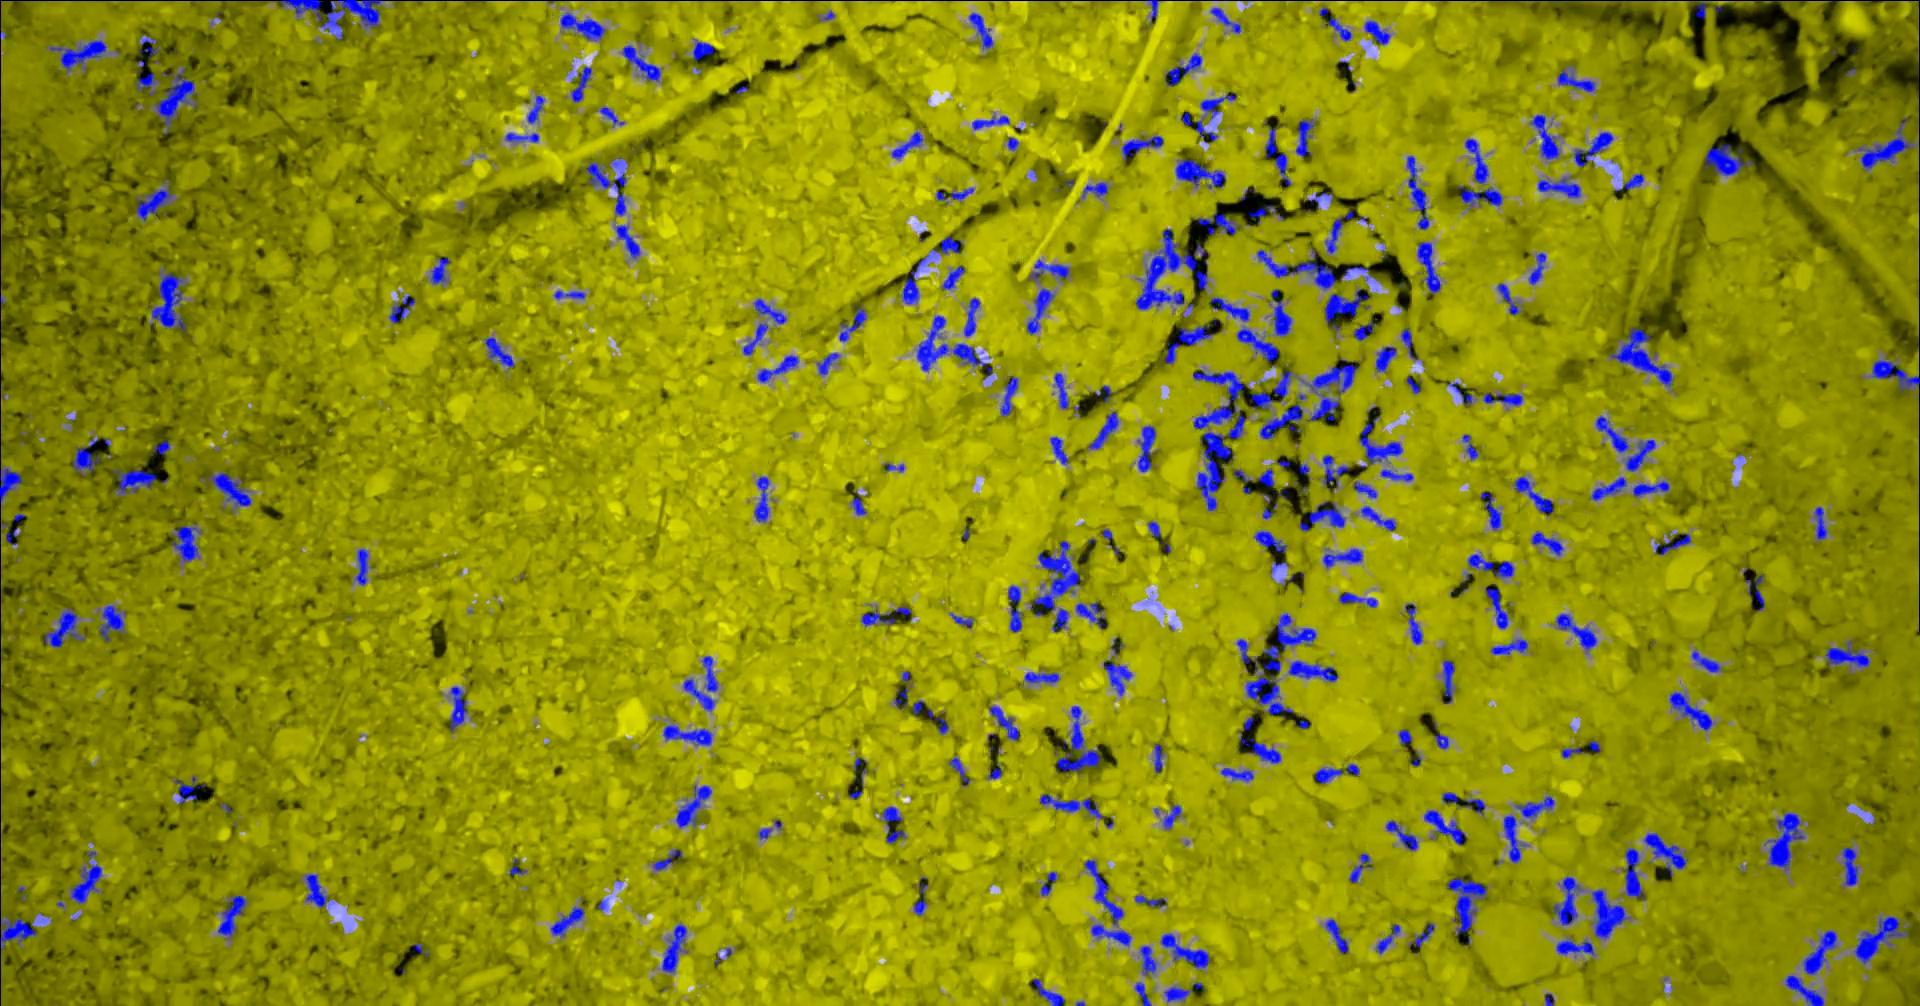ant: (1258, 248, 1338, 290), (1057, 705, 1101, 772), (1858, 117, 1915, 169), (155, 67, 198, 135), (1855, 916, 1910, 964), (1084, 859, 1125, 923), (1361, 409, 1404, 464), (1449, 876, 1488, 935), (1766, 812, 1806, 869), (587, 161, 629, 215), (1261, 392, 1308, 439), (152, 269, 188, 330), (1166, 324, 1215, 363), (1307, 358, 1361, 394), (48, 39, 108, 71), (684, 655, 719, 710), (1644, 832, 1688, 875), (1326, 288, 1370, 330), (1592, 889, 1629, 937), (201, 473, 253, 506), (1670, 691, 1713, 730), (1162, 934, 1211, 968), (44, 607, 86, 647), (1238, 326, 1280, 365), (1408, 155, 1430, 229), (1557, 614, 1597, 652), (677, 784, 712, 827), (1425, 809, 1468, 845), (1041, 794, 1103, 818), (1516, 476, 1556, 514), (1705, 144, 1752, 175), (1873, 359, 1920, 391), (1266, 127, 1291, 185), (1804, 930, 1837, 974), (1, 913, 39, 951), (1177, 159, 1227, 188), (1575, 131, 1615, 166), (1554, 876, 1583, 925), (904, 254, 932, 304), (623, 44, 662, 80), (137, 185, 175, 221), (1302, 500, 1346, 531), (1531, 114, 1561, 159), (561, 11, 607, 39), (1029, 288, 1057, 334), (1241, 733, 1283, 763), (1326, 210, 1355, 253), (1418, 241, 1443, 293), (72, 862, 103, 903), (663, 923, 688, 972), (1597, 415, 1630, 452), (173, 521, 202, 561), (218, 895, 248, 936), (113, 467, 157, 494), (1826, 640, 1870, 667), (1183, 111, 1219, 144), (1166, 53, 1203, 85), (1625, 847, 1647, 901), (1785, 976, 1825, 1005), (759, 354, 800, 382), (1505, 815, 1529, 862), (1090, 412, 1120, 448), (1123, 135, 1164, 161), (1469, 553, 1515, 577), (1105, 658, 1134, 695), (1192, 212, 1239, 235), (1465, 138, 1490, 183), (664, 724, 714, 746), (552, 904, 585, 936), (990, 706, 1021, 741), (1459, 185, 1503, 208), (1625, 439, 1657, 471), (72, 438, 102, 473), (841, 305, 869, 340), (1486, 587, 1510, 627), (1290, 661, 1338, 681), (1203, 91, 1237, 119), (1272, 290, 1293, 337), (1211, 297, 1251, 321), (862, 606, 912, 625), (102, 605, 127, 641), (1539, 175, 1582, 197), (486, 337, 516, 368), (1387, 821, 1418, 850), (970, 11, 994, 50), (1324, 453, 1350, 489), (306, 873, 331, 908), (883, 807, 907, 843), (1309, 392, 1341, 420), (1034, 978, 1067, 1005), (1092, 923, 1133, 945), (1559, 69, 1597, 91), (177, 775, 207, 803), (1516, 795, 1556, 817), (893, 131, 924, 158), (137, 58, 160, 95), (617, 224, 641, 258), (1363, 506, 1397, 530), (1030, 259, 1070, 279), (1139, 426, 1157, 471), (1592, 478, 1628, 500), (1077, 602, 1107, 629), (1410, 922, 1436, 953), (744, 323, 770, 354), (1164, 981, 1204, 1001), (756, 298, 789, 323), (1482, 492, 1503, 528), (451, 686, 469, 730), (1297, 119, 1317, 158), (571, 66, 593, 102), (1, 467, 23, 503), (1533, 531, 1564, 555), (1326, 920, 1350, 951), (1255, 530, 1288, 553), (1324, 547, 1364, 567), (390, 295, 417, 323), (1211, 8, 1242, 32), (1377, 923, 1401, 954), (1656, 533, 1691, 554), (1406, 603, 1423, 644), (1010, 586, 1025, 633), (1747, 573, 1766, 610), (1498, 283, 1521, 314), (1250, 205, 1285, 224), (756, 476, 771, 521), (1843, 847, 1860, 885), (356, 547, 373, 584), (965, 297, 982, 337), (1002, 376, 1018, 415), (1340, 591, 1379, 607), (1557, 939, 1596, 955), (1693, 650, 1722, 672), (654, 848, 683, 870), (895, 669, 912, 708), (1449, 381, 1474, 405), (1326, 17, 1352, 39), (1350, 854, 1371, 882), (1366, 20, 1390, 44), (928, 708, 950, 734), (1634, 480, 1671, 495), (1492, 639, 1529, 654), (943, 265, 966, 290), (1377, 345, 1398, 371), (1444, 659, 1457, 702), (1530, 251, 1547, 285), (973, 116, 1011, 130), (935, 235, 963, 254), (432, 257, 451, 285), (1051, 436, 1070, 464), (951, 757, 970, 785), (916, 876, 930, 915), (1355, 318, 1378, 340), (601, 105, 625, 127), (1275, 370, 1293, 399), (1403, 326, 1418, 359), (1142, 945, 1158, 976), (1484, 392, 1524, 405), (1617, 173, 1644, 191), (1057, 372, 1070, 408), (818, 352, 841, 373), (1382, 467, 1415, 481), (1222, 767, 1255, 781), (1252, 390, 1275, 409), (1310, 191, 1335, 208), (1236, 469, 1253, 493), (530, 95, 545, 123), (1316, 767, 1343, 782), (1816, 506, 1829, 539), (141, 34, 161, 55), (1026, 672, 1062, 683), (1164, 805, 1182, 828), (695, 41, 715, 60), (1083, 182, 1109, 197), (1464, 434, 1479, 460), (1355, 481, 1378, 498), (1137, 982, 1153, 1005), (853, 490, 869, 514), (1043, 871, 1058, 895), (1137, 895, 1168, 907), (507, 132, 540, 142), (1465, 798, 1487, 813), (1147, 0, 1161, 23), (951, 614, 974, 627), (510, 857, 528, 875), (1258, 467, 1275, 486), (952, 187, 975, 199), (1399, 729, 1413, 749), (555, 290, 587, 298), (1691, 0, 1707, 18), (152, 439, 171, 453), (1443, 793, 1462, 807), (1156, 743, 1164, 772), (1408, 375, 1422, 392), (1435, 733, 1450, 748), (1563, 746, 1583, 757), (1149, 521, 1162, 537), (759, 827, 773, 840), (8, 528, 19, 544), (990, 766, 1003, 779), (914, 700, 924, 715), (1349, 763, 1361, 775), (1010, 137, 1020, 150)
